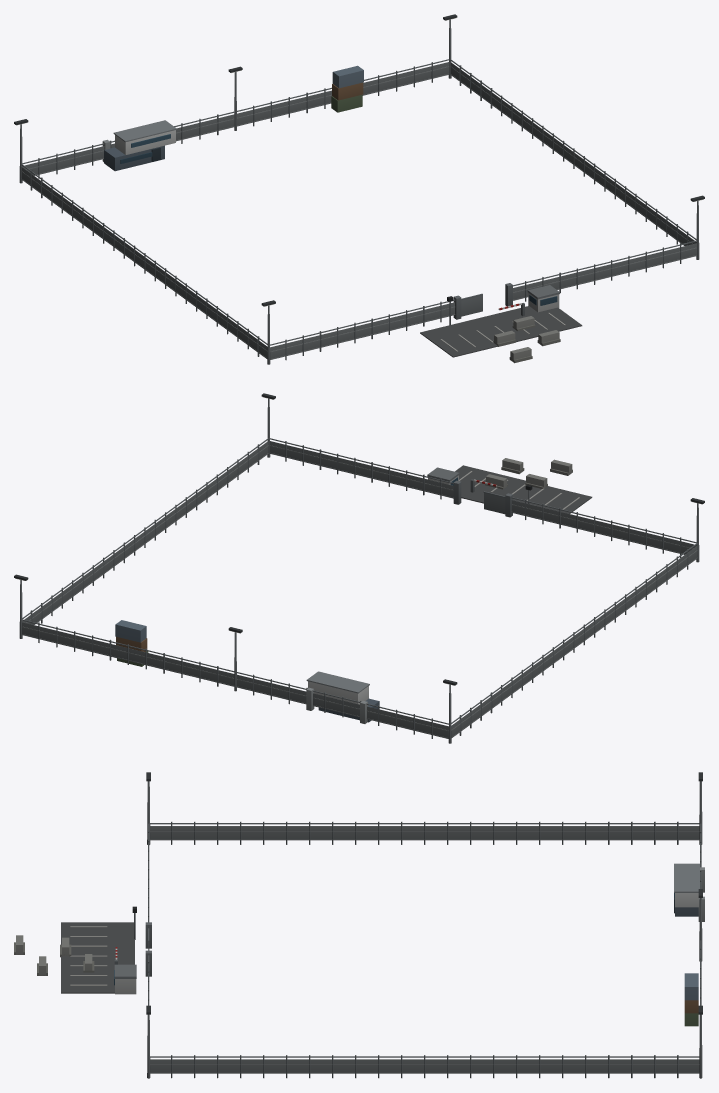
File: m_factory_0ffe7d4f.glb
The picture shows the model from 3 angles, top to bottom: view 1: azimuth 30°, elevation 25°; view 2: azimuth 150°, elevation 25°; view 3: azimuth 270°, elevation 25°; orthographic projection. The views are drawn at different scales.
Parts seen in each view (by area): view 1: mesh; view 2: mesh; view 3: mesh.
Boxes of the visible parts, <box> form: mesh: <box>14,14,704,364</box>; mesh: <box>14,393,704,743</box>; mesh: <box>14,772,704,1078</box>.
Bounding box in the file's own units: 123 × 16.46 × 150.
